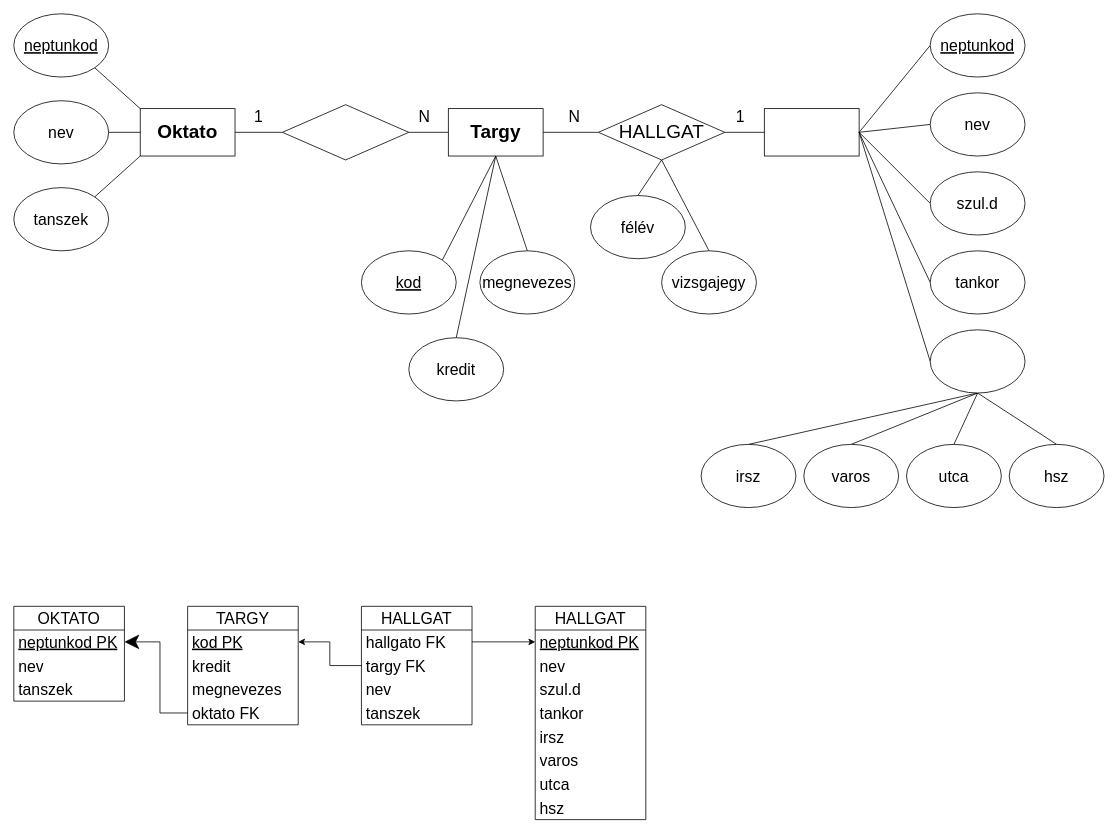
This 1118x833 diagram has some shape labels left out. Here are the shapes that lost their labels. From the top down, the centre of each, then its label:
At point (345, 132): "OKTAT".
At point (811, 132): "Hallgato".
At point (977, 361): "cim".
